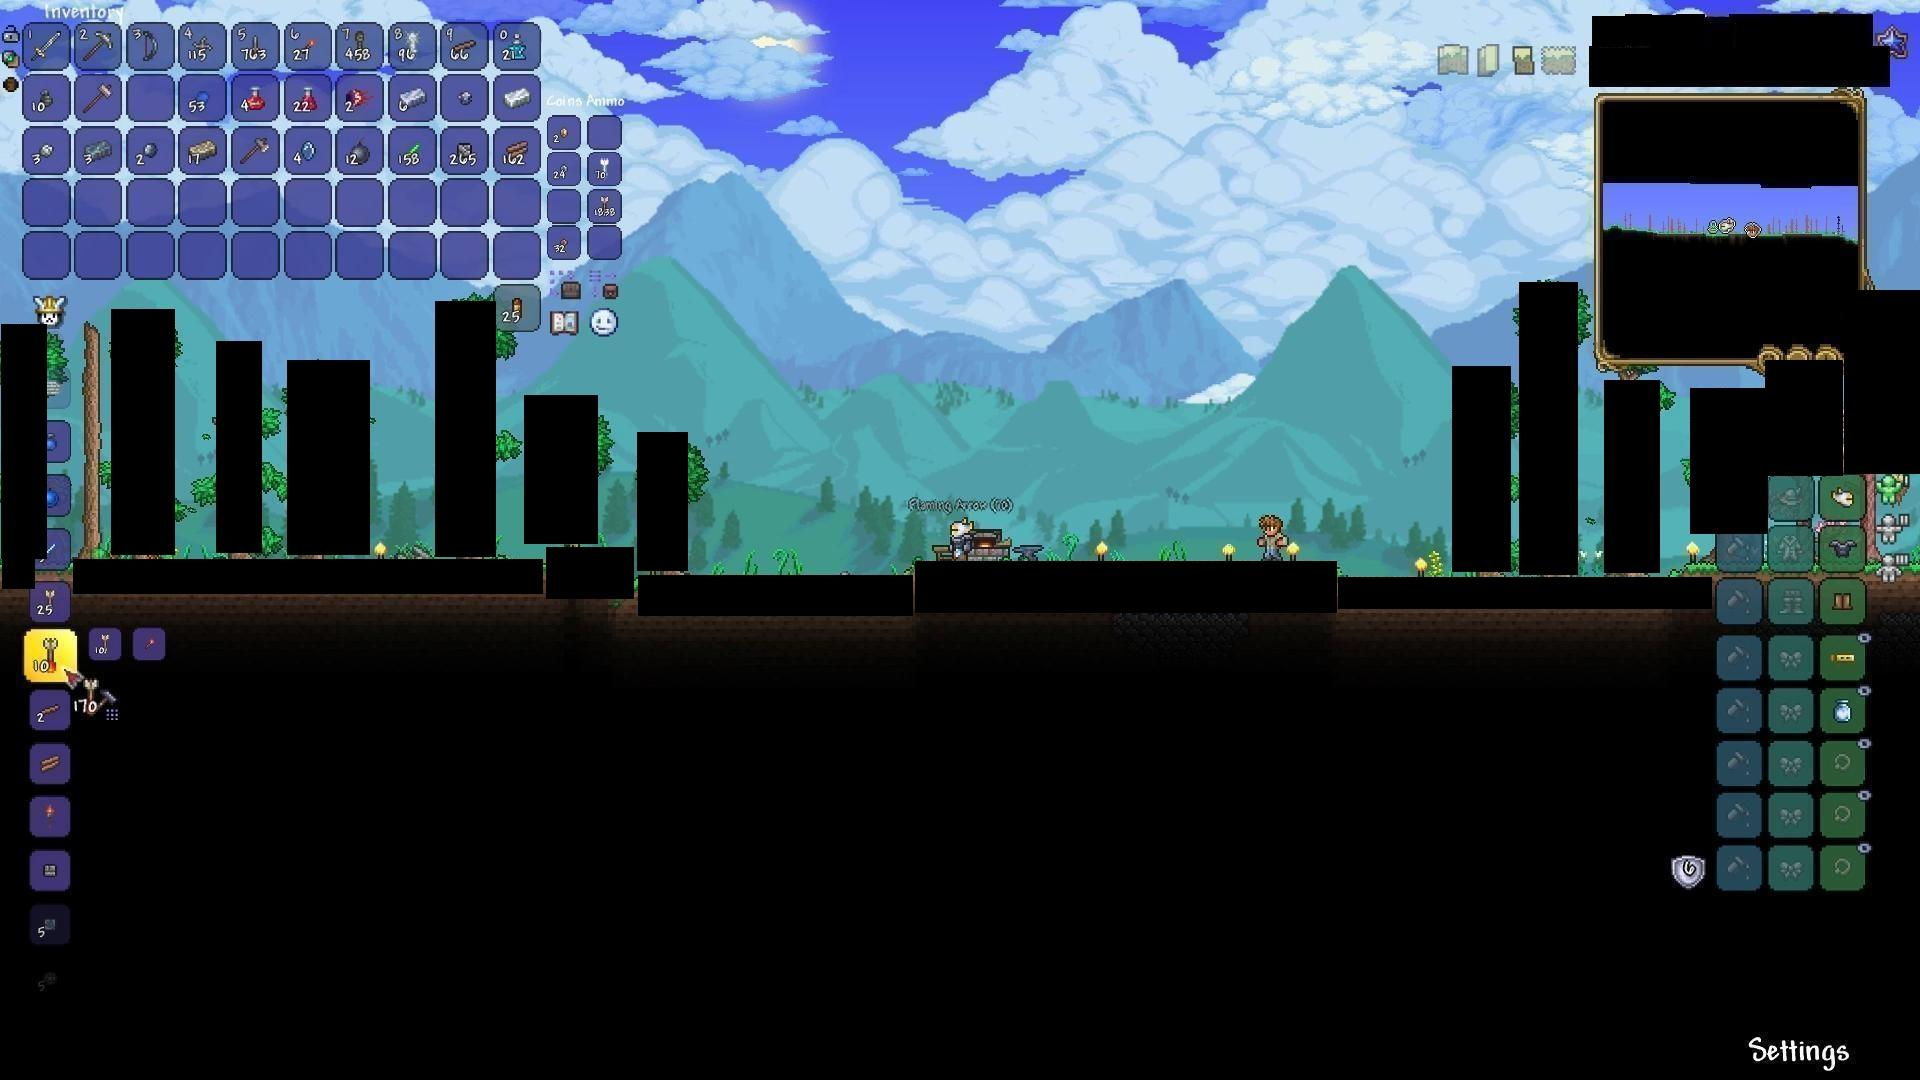breastplate: (1828, 534, 1857, 559), (1830, 539, 1858, 560)
legs: (1832, 589, 1857, 615)
tree: (74, 316, 105, 556)
wood: (502, 135, 533, 162), (36, 749, 65, 775)
workbench: (926, 535, 963, 560)
